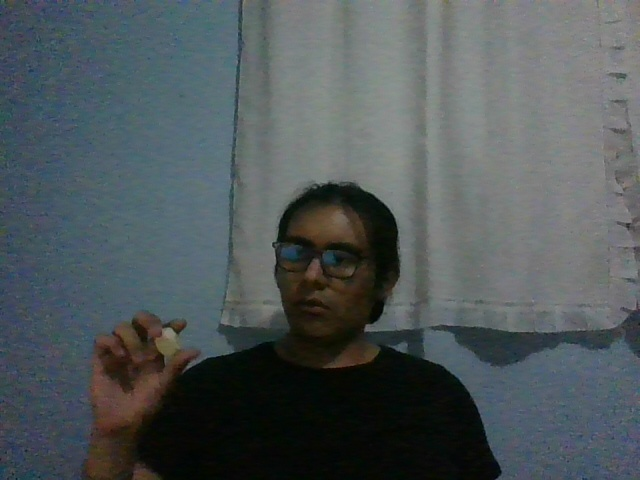goma: (155, 327, 182, 356)
